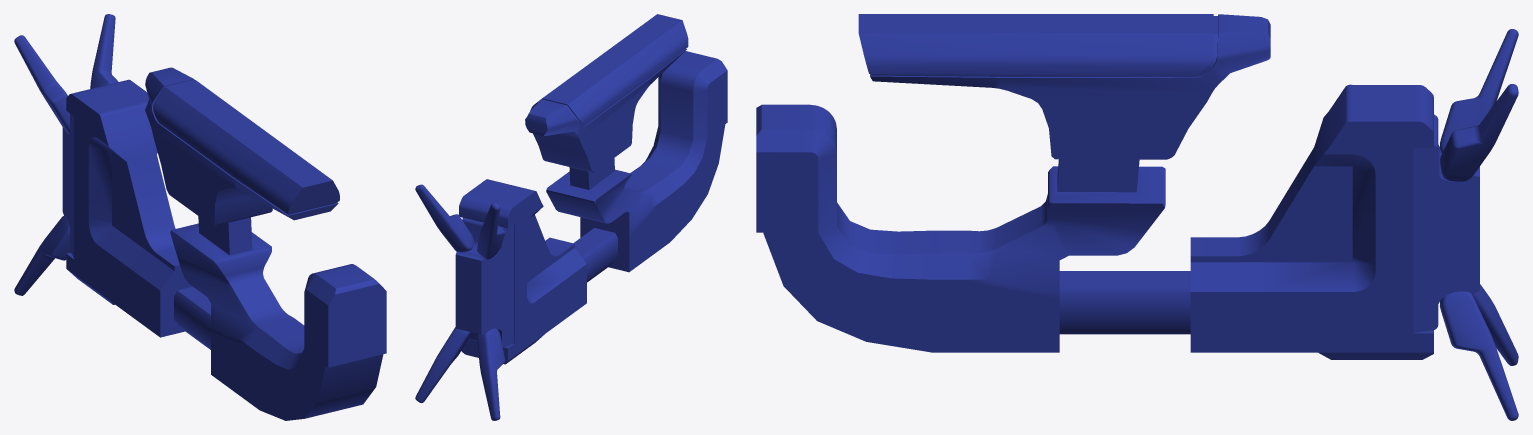
File: part_stock_05.fbx
3 renders of one model, left to right at view 1: azimuth 30°, elevation 25°; view 2: azimuth 150°, elevation 25°; view 3: azimuth 270°, elevation 25°, orthographic. The views are drawn at different scales.
Visible parts, largest first — view 1: part_stock_05; view 2: part_stock_05; view 3: part_stock_05.
Boxes of the visible parts, x1=… form: part_stock_05: x1=14, y1=14, x2=386, y2=420; part_stock_05: x1=415, y1=14, x2=727, y2=420; part_stock_05: x1=756, y1=14, x2=1518, y2=420.
Bounding box in the file's own units: 10.26 × 28.01 × 52.36.
